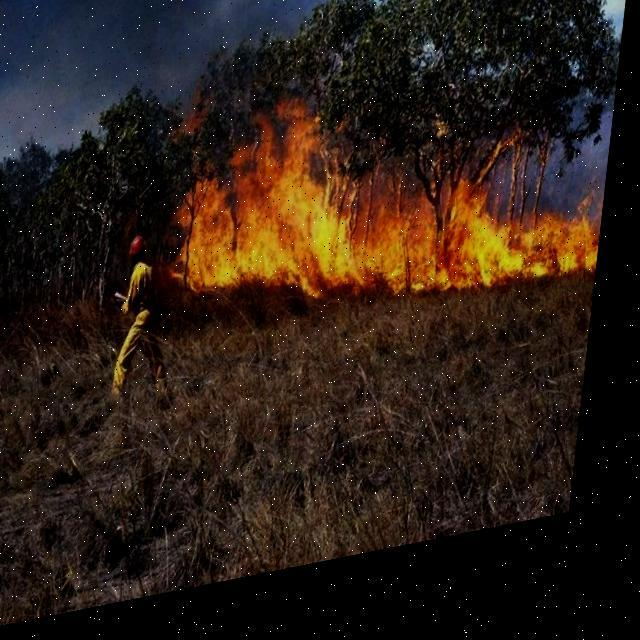Fire: (172, 69, 624, 364)
